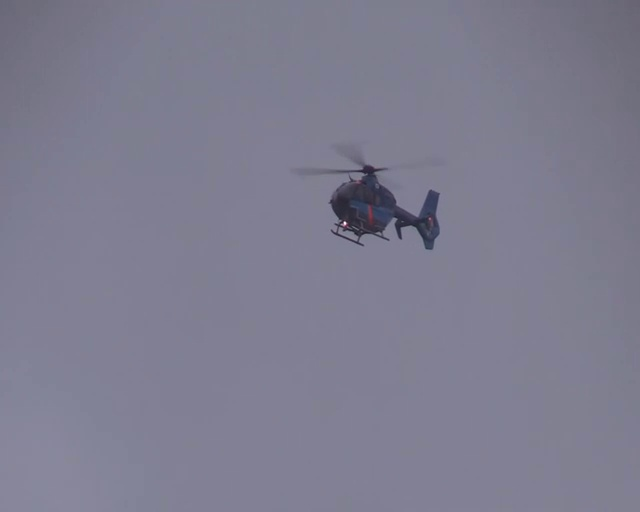HELICOPTER: (289, 139, 446, 249)
